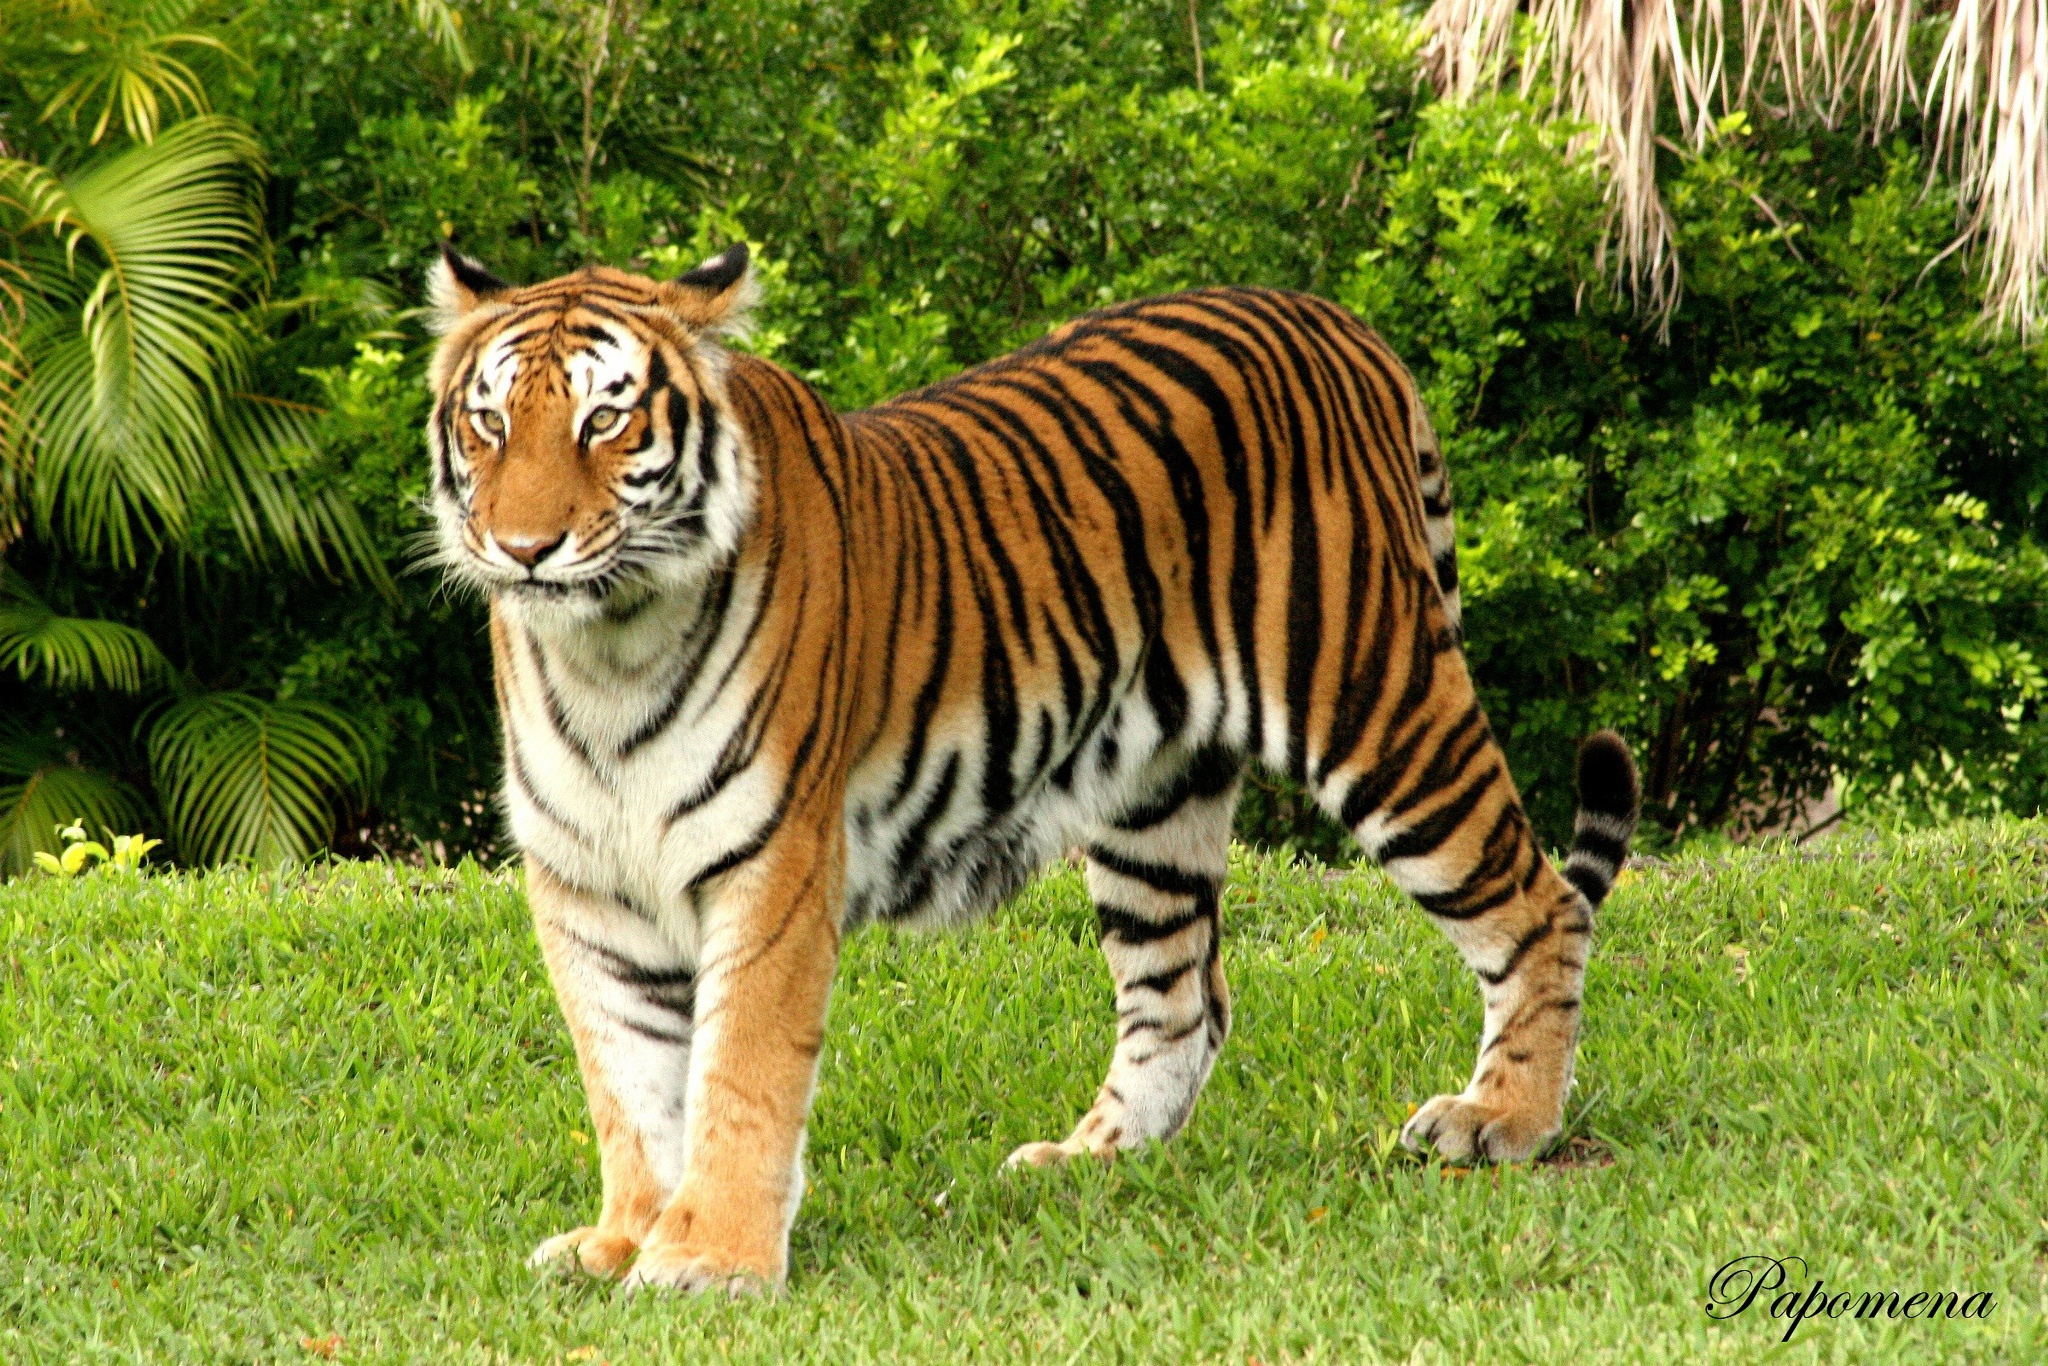tiger: (369, 245, 1644, 1285)
